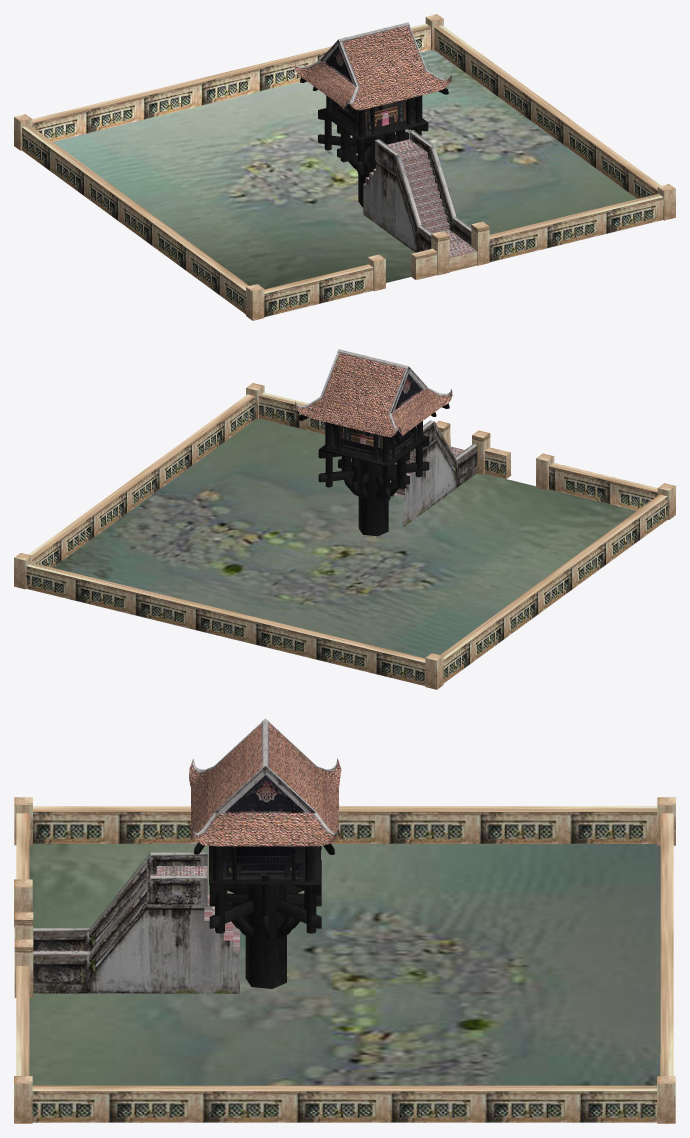
The picture shows the model from 3 angles, top to bottom: view 1: azimuth 30°, elevation 25°; view 2: azimuth 150°, elevation 25°; view 3: azimuth 270°, elevation 25°; orthographic projection. The views are drawn at different scales.
Parts seen in each view (by area): view 1: 5afa876debf75843a8127688.001; view 2: 5afa876debf75843a8127688.001; view 3: 5afa876debf75843a8127688.001.
Part boxes in pixels (bbox=[...]): 5afa876debf75843a8127688.001: bbox=[14, 14, 675, 320]; 5afa876debf75843a8127688.001: bbox=[14, 349, 675, 689]; 5afa876debf75843a8127688.001: bbox=[14, 718, 675, 1123].
Bounding box in the file's own units: 20.04 × 7.79 × 19.59.
1 material, 1 textured.
